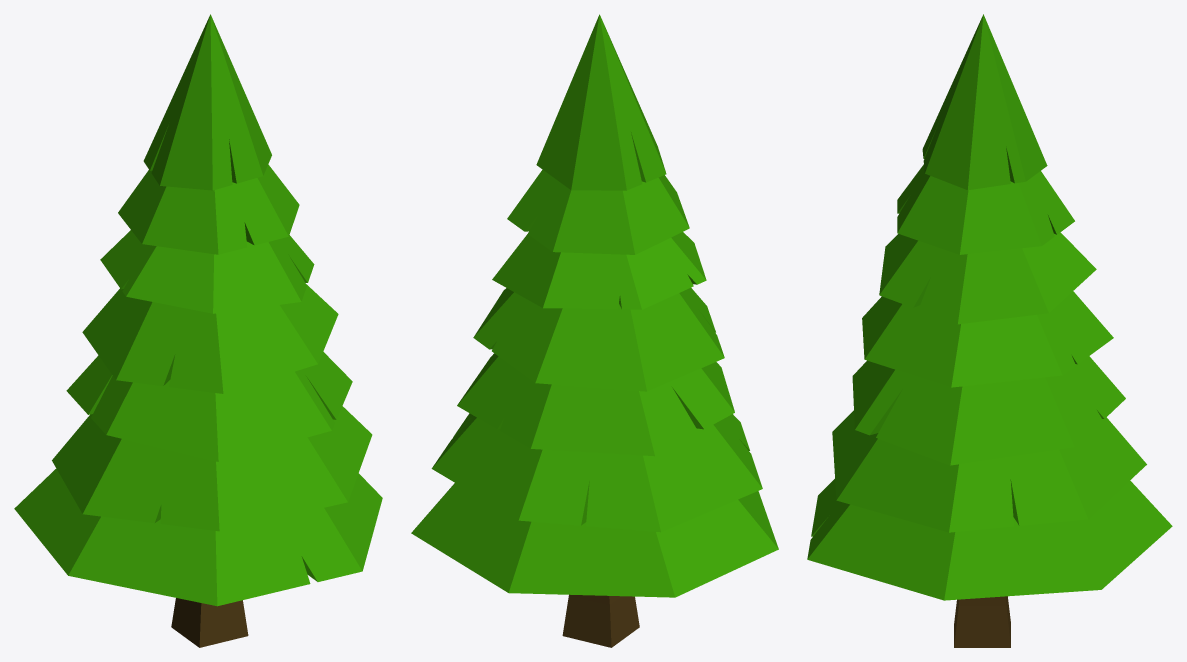
The model's file is Tree_Pine.fbx.
The picture shows the model from 3 angles, left to right: view 1: azimuth 30°, elevation 25°; view 2: azimuth 150°, elevation 25°; view 3: azimuth 270°, elevation 25°; orthographic projection.
Visible parts, largest first — view 1: Tree_Pine; view 2: Tree_Pine; view 3: Tree_Pine.
Part boxes in pixels (bbox=[...]): Tree_Pine: bbox=[14, 14, 382, 647]; Tree_Pine: bbox=[411, 14, 778, 647]; Tree_Pine: bbox=[807, 14, 1172, 647].
Size of the model in its own units: 320 by 602 by 320.
